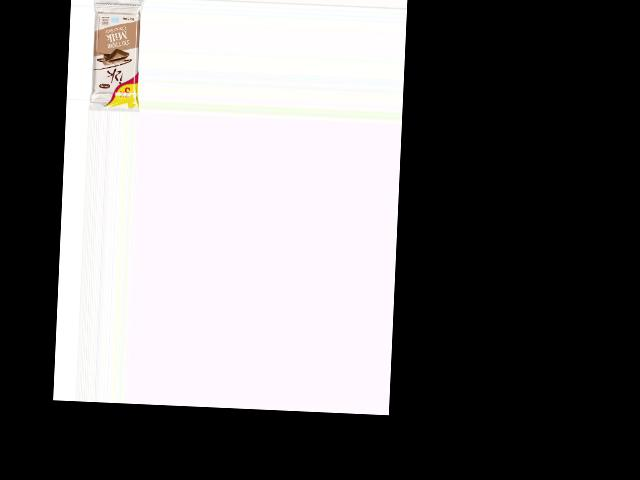chocolate: (87, 5, 143, 112)
